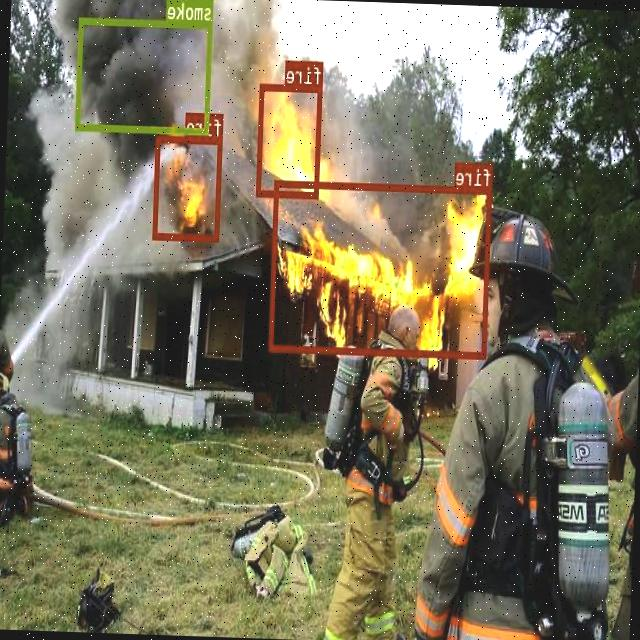fire: (269, 179, 493, 358), (258, 82, 322, 197), (153, 136, 223, 240)
smoke: (76, 17, 214, 134)
